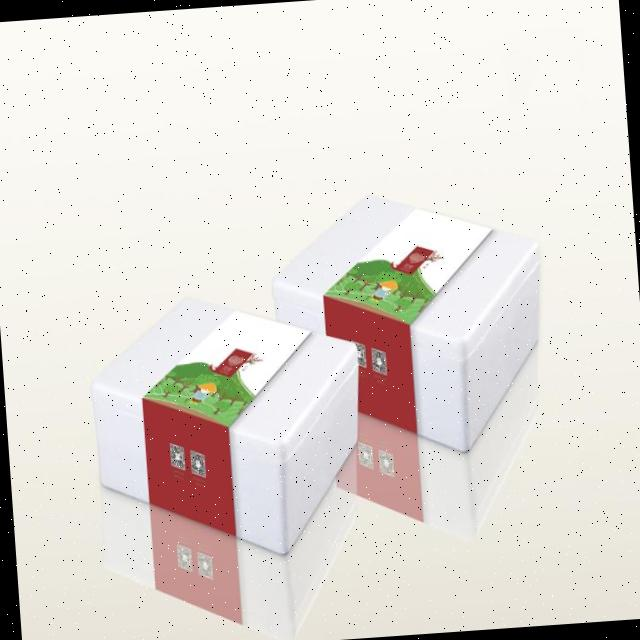styrofoam: (264, 179, 554, 466), (84, 282, 371, 567)
